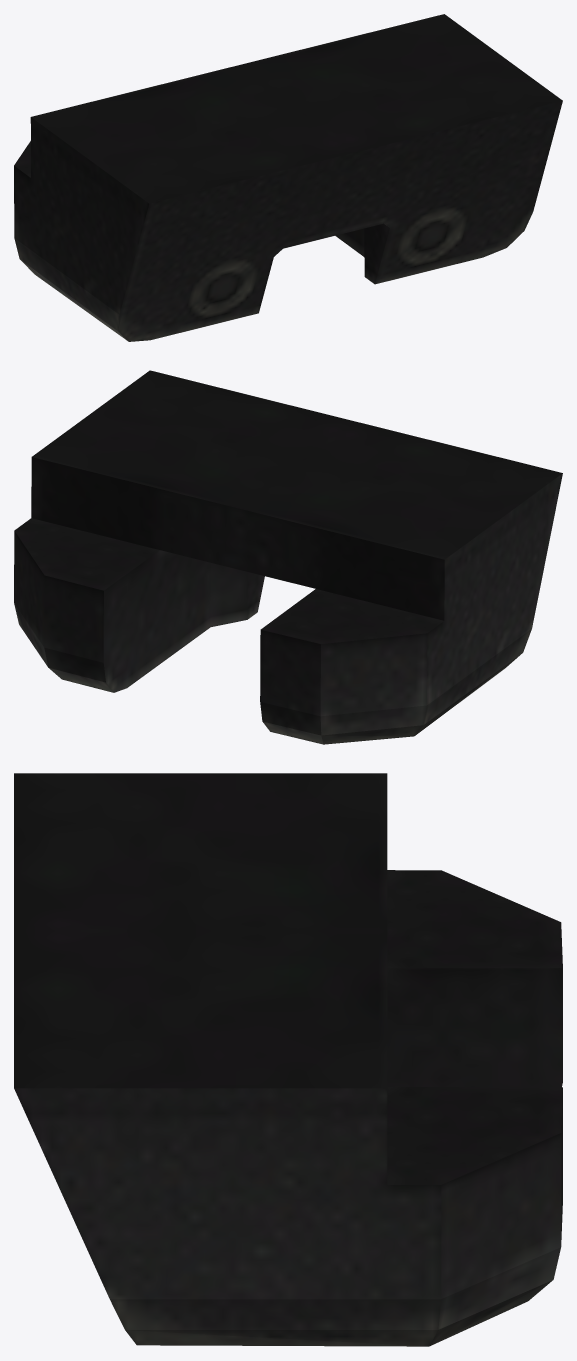
The picture shows the model from 3 angles, top to bottom: view 1: azimuth 30°, elevation 25°; view 2: azimuth 150°, elevation 25°; view 3: azimuth 270°, elevation 25°; orthographic projection. The views are drawn at different scales.
Parts seen in each view (by area): view 1: TW_56d5a77ed2720b90418b4568_PZ_Import; view 2: TW_56d5a77ed2720b90418b4568_PZ_Import; view 3: TW_56d5a77ed2720b90418b4568_PZ_Import.
Boxes of the visible parts, <box> form: TW_56d5a77ed2720b90418b4568_PZ_Import: <box>14,14,562,341</box>; TW_56d5a77ed2720b90418b4568_PZ_Import: <box>14,370,562,744</box>; TW_56d5a77ed2720b90418b4568_PZ_Import: <box>14,773,562,1346</box>.
Size of the model in its own units: 0.00773 by 0.00563 by 0.00318.
Materials: 1 (1 with a texture image).
